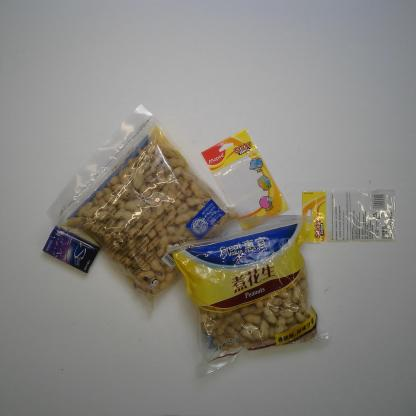Dried Food: (45, 103, 239, 318), (159, 213, 333, 380)
Gum: (42, 225, 100, 274)
Stationery: (199, 128, 291, 232), (302, 190, 396, 244)
